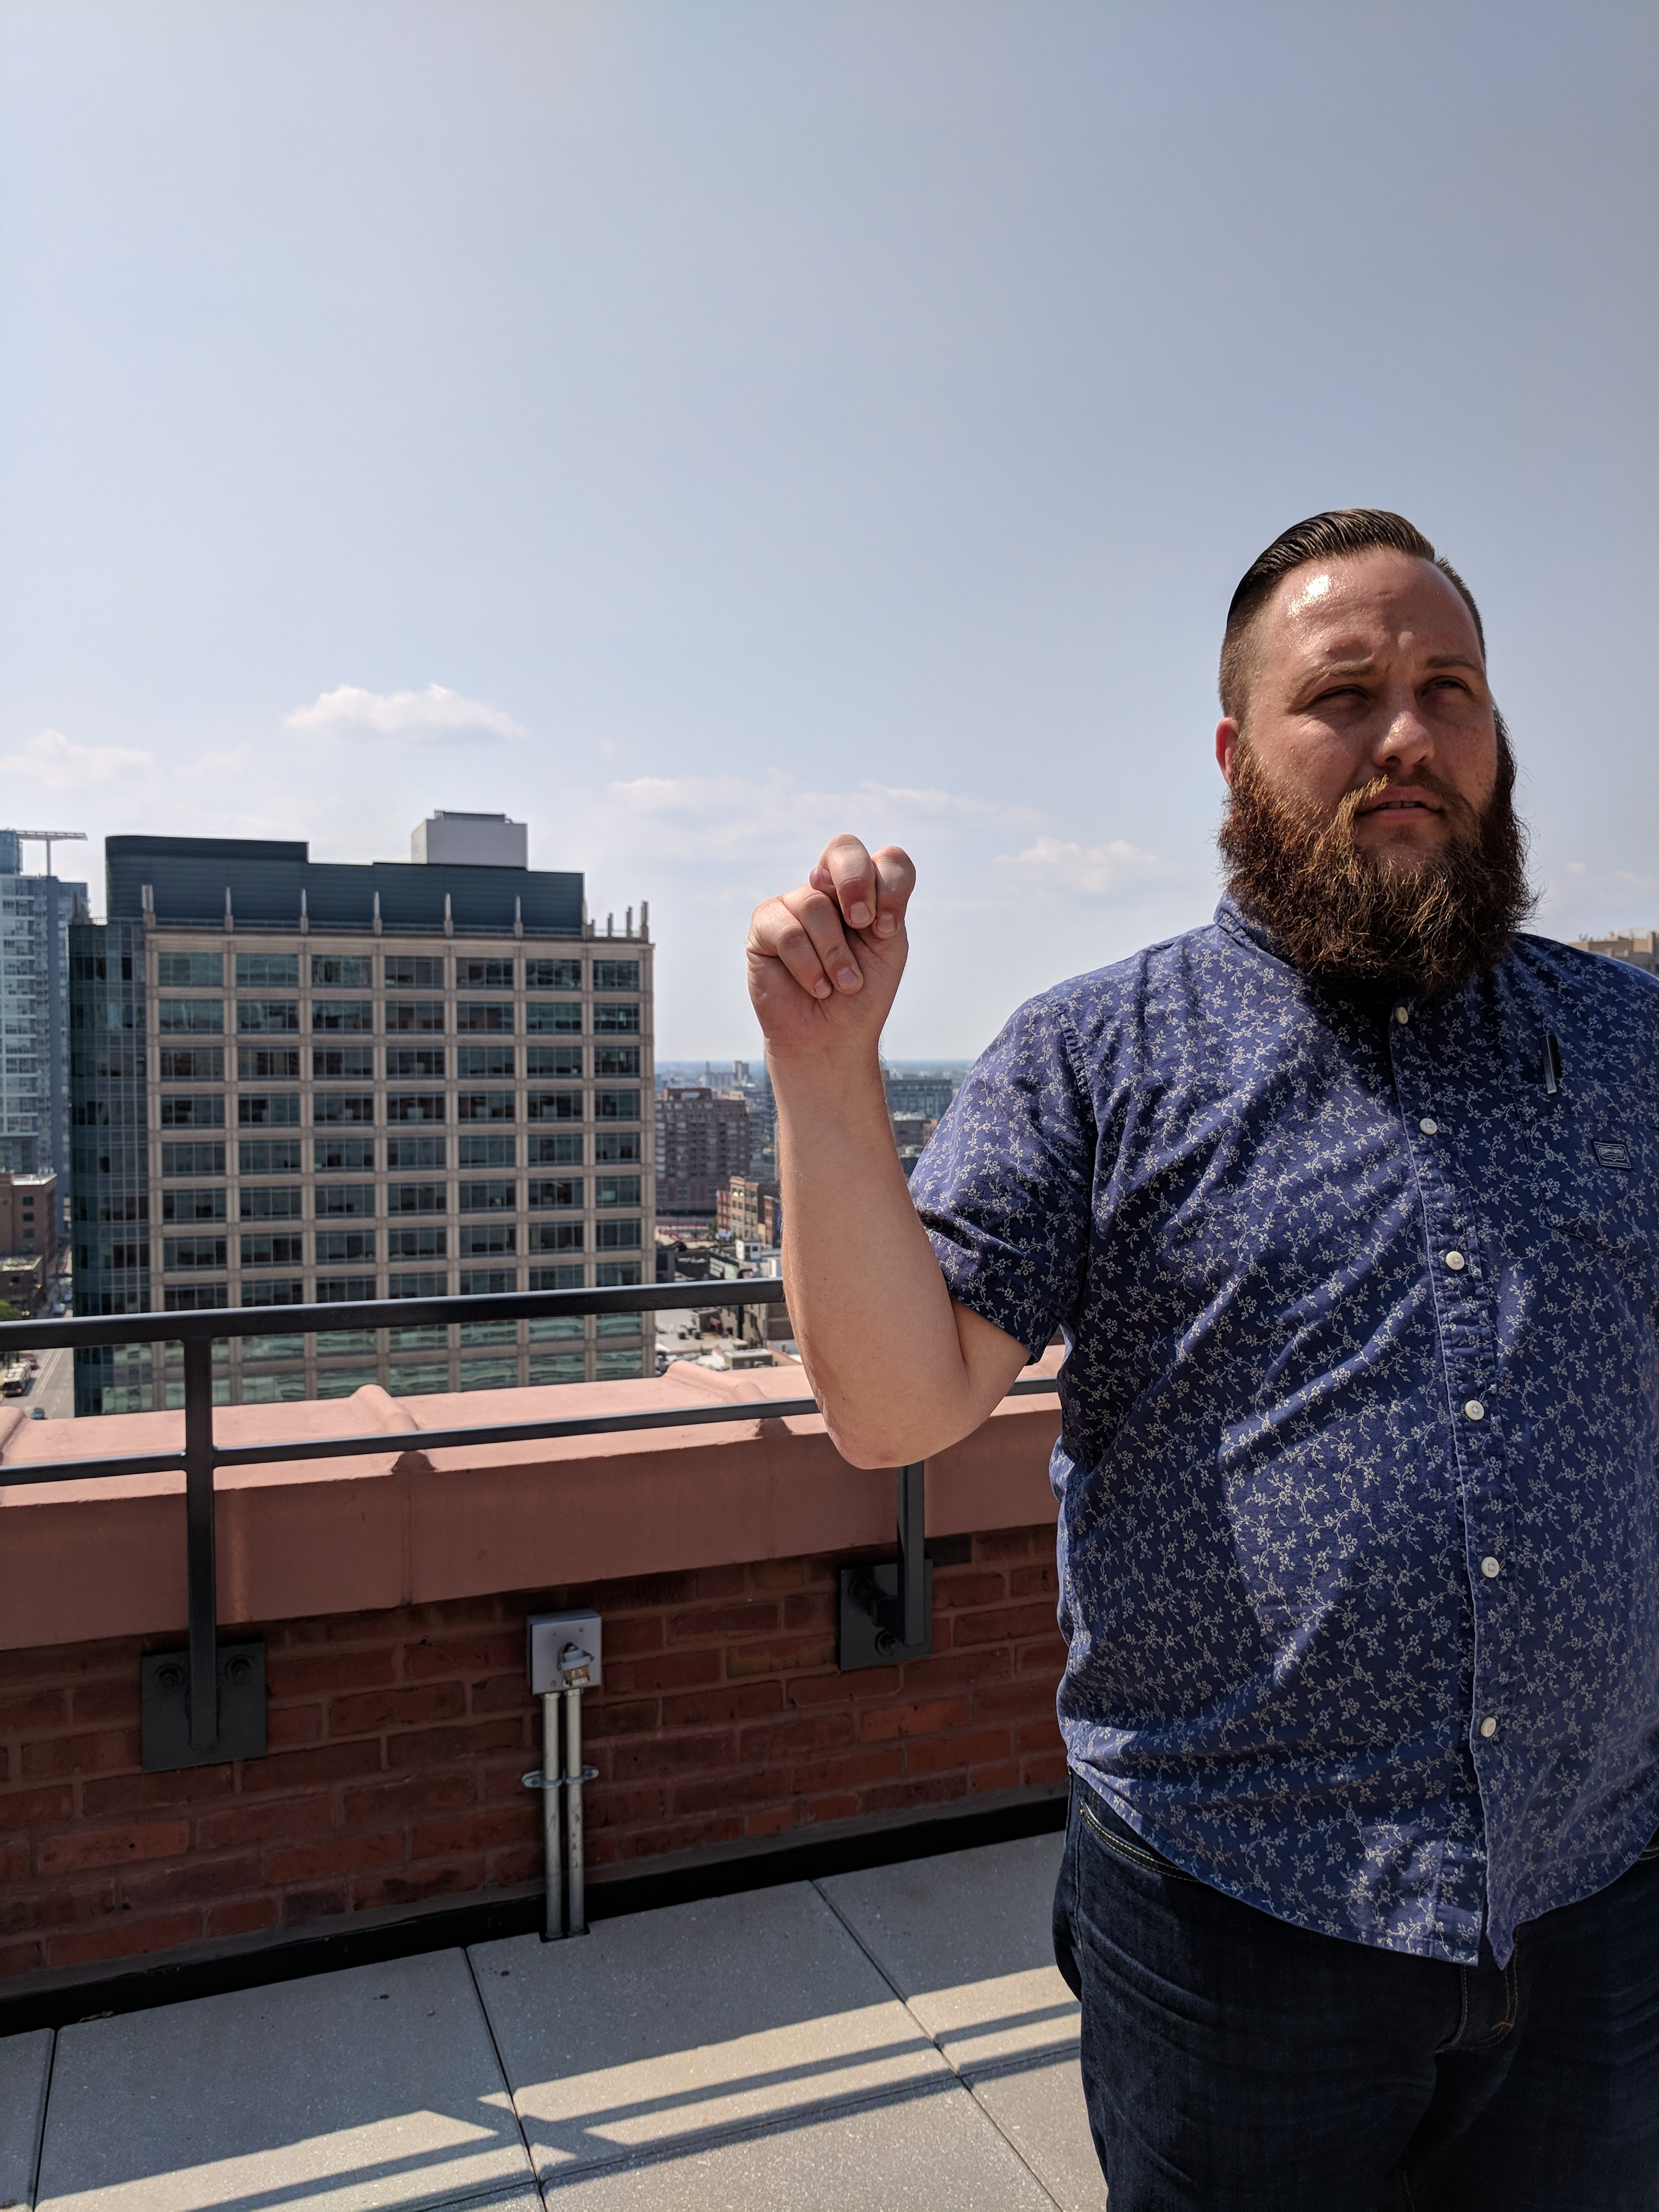n: (735, 827, 924, 1054)
